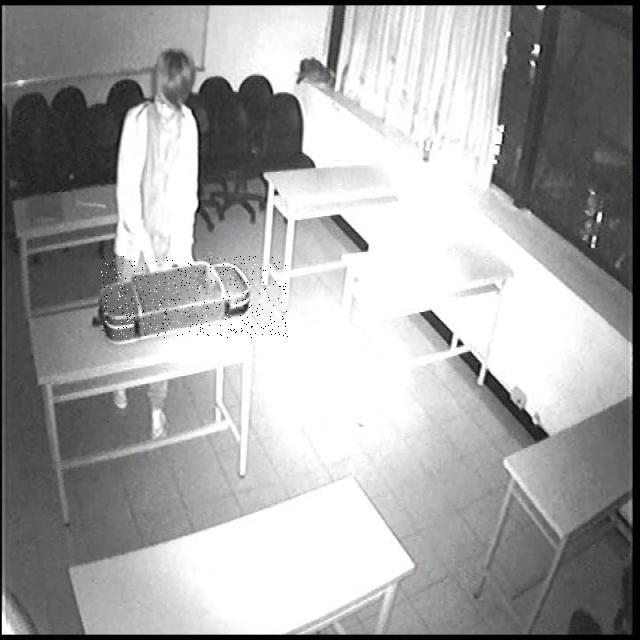abandoned-object: (101, 256, 288, 338)
